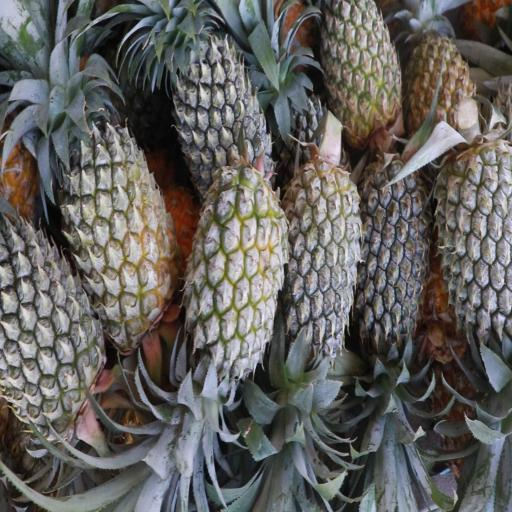------------------------------: (51, 91, 172, 328), (186, 168, 285, 398), (323, 0, 399, 139), (409, 30, 476, 157)
